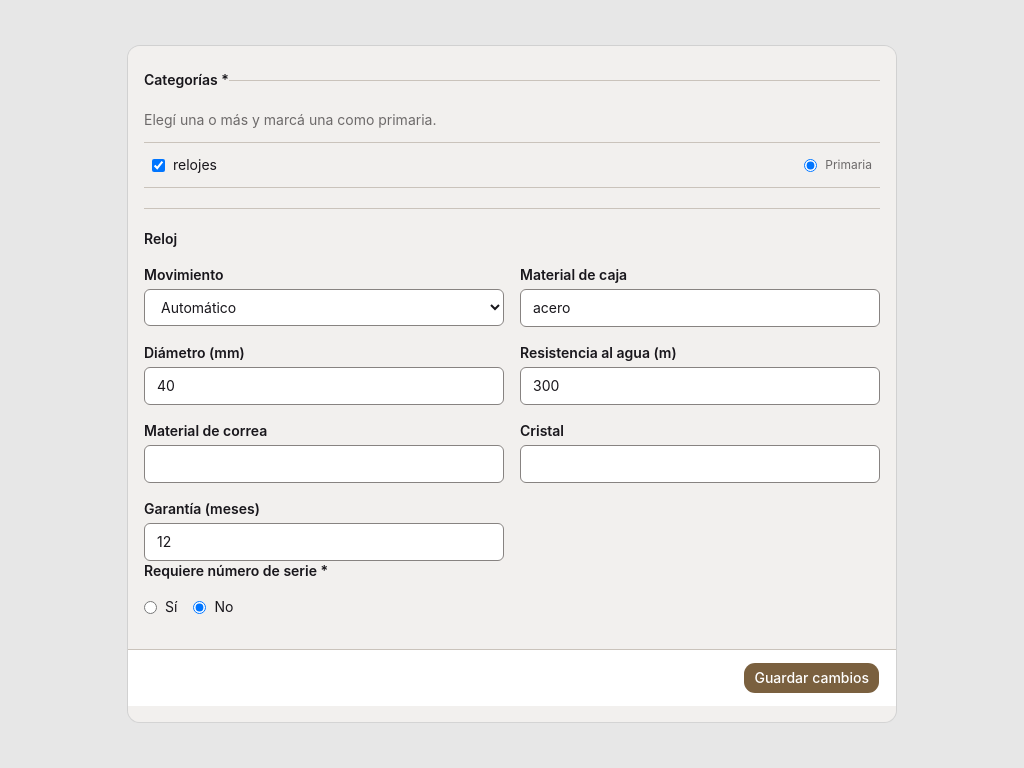
Test case: RN-SER-02 · el formulario del reloj manda requiresSerial solo si se tocó y avisa que se propaga (WP-E05e) › el aviso concuerda con una sola variante y con el cambio a «Sí»
(page scrolled)
Click the radio button labelled "Sí": (150, 607) [144,601,157,614]
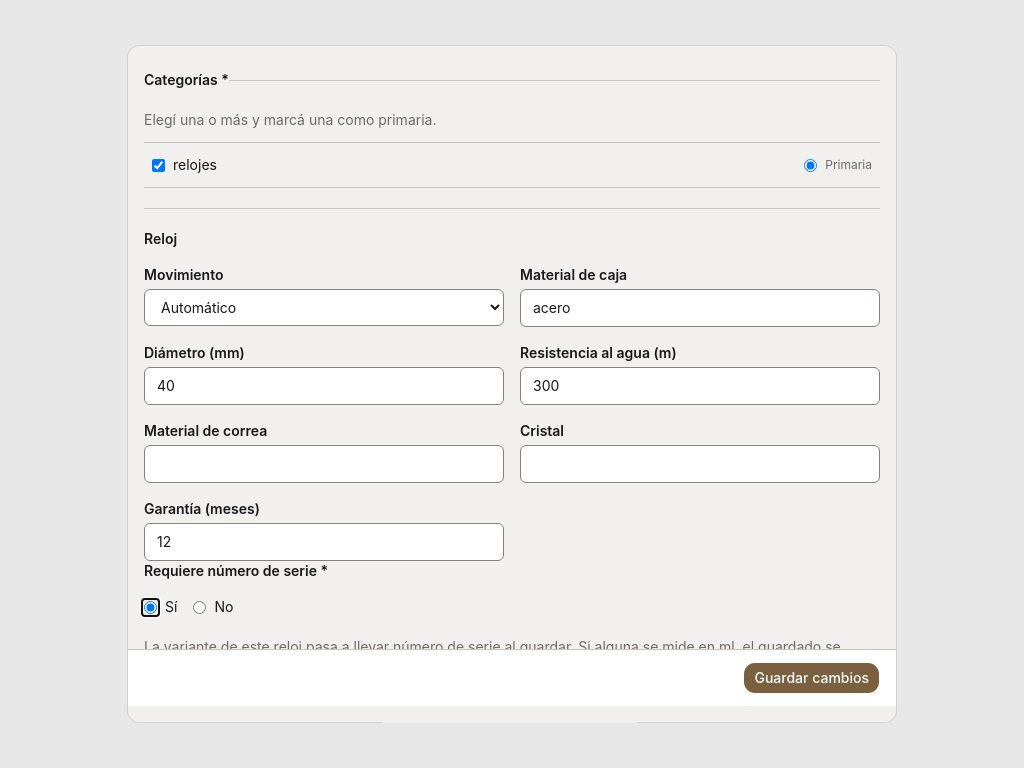
Result: the message shows "La variante de este reloj pasa a llevar número de serie al guardar. Si alguna se mide en ml, el guardado se rechaza y no cambia nada." at [144,638,841,675]
